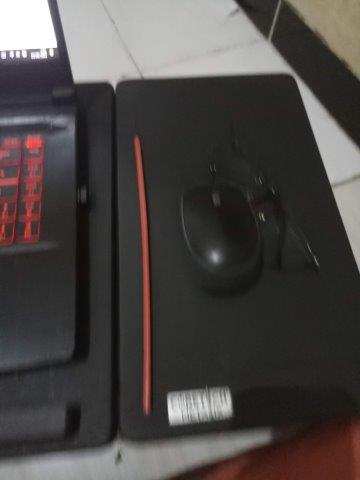sedotan: (133, 135, 151, 413)
